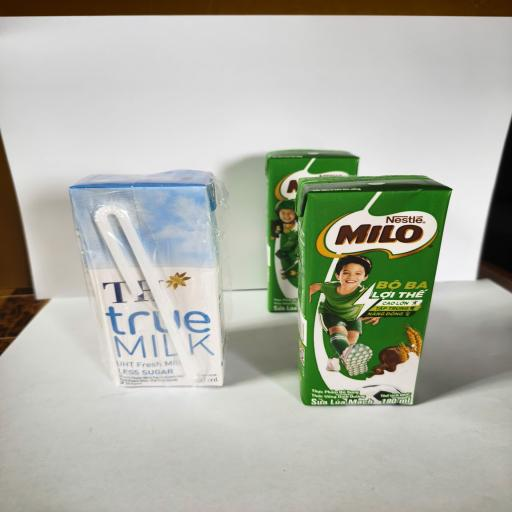milo: (294, 175, 452, 406), (296, 175, 453, 407), (265, 150, 360, 313), (265, 150, 360, 312)
